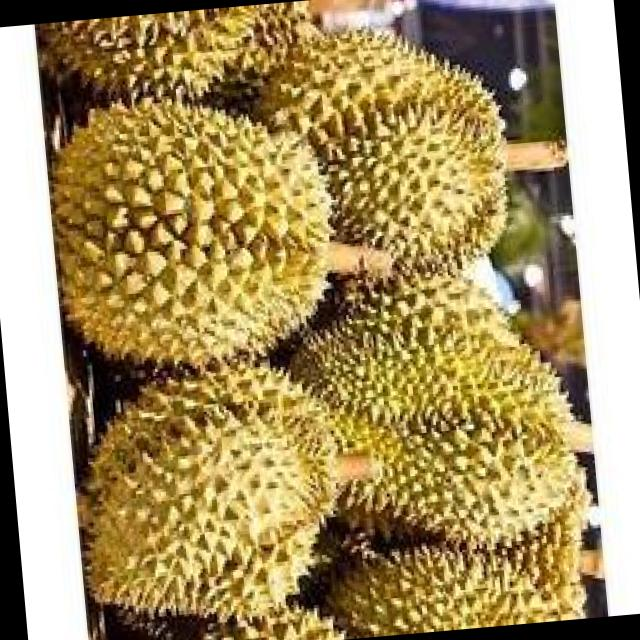fruit: (245, 236, 610, 590), (36, 62, 372, 396), (58, 317, 375, 640), (269, 0, 542, 303), (33, 0, 390, 143)
